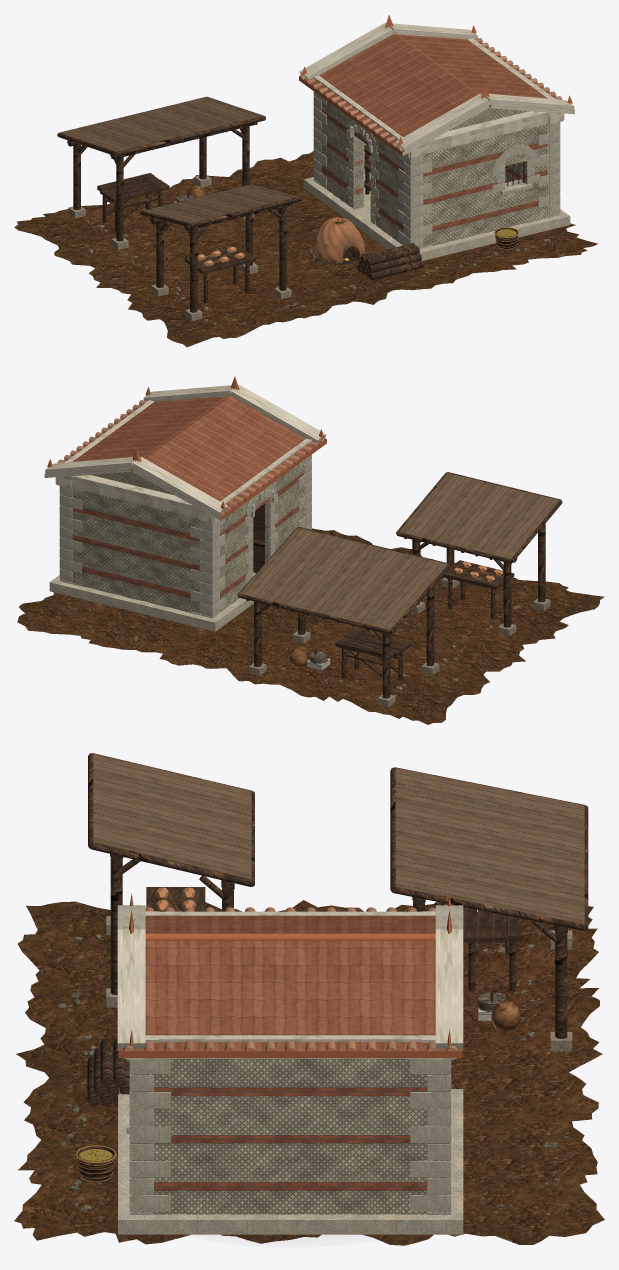
File: bakery@2.glb
3 renders of one model, top to bottom at view 1: azimuth 30°, elevation 25°; view 2: azimuth 150°, elevation 25°; view 3: azimuth 270°, elevation 25°, orthographic. The views are drawn at different scales.
Parts seen in each view (by area): view 1: part_1, part_4, part_22, part_6, part_5, part_21, part_9, part_7, part_17, part_8, part_24, part_23 (+1 smaller); view 2: part_1, part_9, part_4, part_22, part_6, part_5, part_21, part_7, part_8, part_24, part_23; view 3: part_1, part_4, part_9, part_22, part_5, part_6, part_21, part_7, part_23, part_24, part_2, part_8 (+2 smaller).
Boxes of the visible parts, box(x1,y1,x2,y2) form: part_1: box(14, 151, 597, 347); part_4: box(314, 97, 559, 247); part_22: box(299, 34, 574, 152); part_6: box(57, 96, 524, 312); part_5: box(303, 91, 570, 260); part_21: box(299, 23, 574, 157); part_9: box(60, 97, 299, 223); part_7: box(78, 185, 279, 317); part_17: box(311, 217, 364, 264); part_8: box(68, 175, 291, 321); part_24: box(299, 38, 574, 151); part_23: box(299, 15, 572, 155); part_1: box(17, 528, 604, 724); part_9: box(239, 473, 559, 629); part_4: box(60, 461, 310, 616); part_22: box(45, 396, 326, 516); part_6: box(237, 472, 562, 698); part_5: box(49, 454, 311, 631); part_21: box(44, 385, 326, 522); part_7: box(261, 586, 540, 703); part_8: box(249, 577, 550, 707); part_24: box(45, 400, 326, 515); part_23: box(47, 376, 326, 520); part_1: box(14, 900, 604, 1245); part_4: box(130, 1059, 450, 1214); part_9: box(93, 754, 584, 923); part_22: box(118, 915, 462, 1051); part_5: box(118, 1059, 463, 1234); part_6: box(87, 753, 588, 1106); part_21: box(117, 905, 463, 1060); part_7: box(463, 945, 554, 1049); part_23: box(118, 893, 462, 1057); part_24: box(123, 907, 457, 1051); part_2: box(47, 934, 568, 1213); part_8: box(106, 916, 572, 1051).
Bounding box in the file's own units: 9.39 × 3.27 × 6.6.
Materials: 25 (16 with a texture image).
